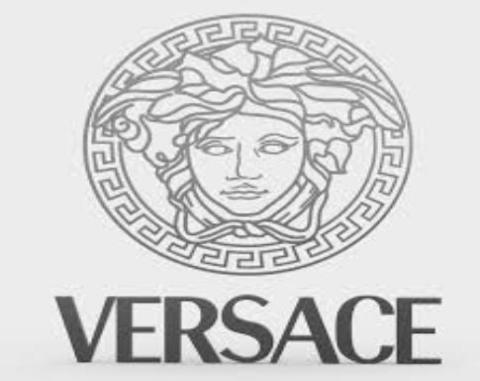VERSACE: (46, 9, 471, 371)
